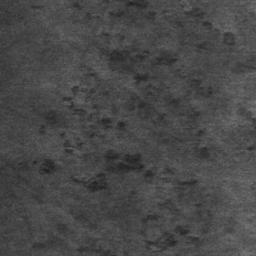Rolled in scale: (39, 0, 214, 256), (0, 160, 54, 220), (223, 17, 248, 50), (5, 10, 24, 26), (32, 240, 56, 249), (240, 64, 256, 74), (236, 146, 256, 153), (197, 42, 206, 52), (31, 5, 44, 10)
